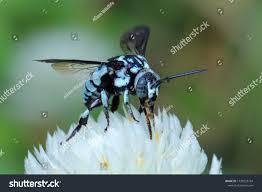Thyreus: (32, 21, 205, 146)
